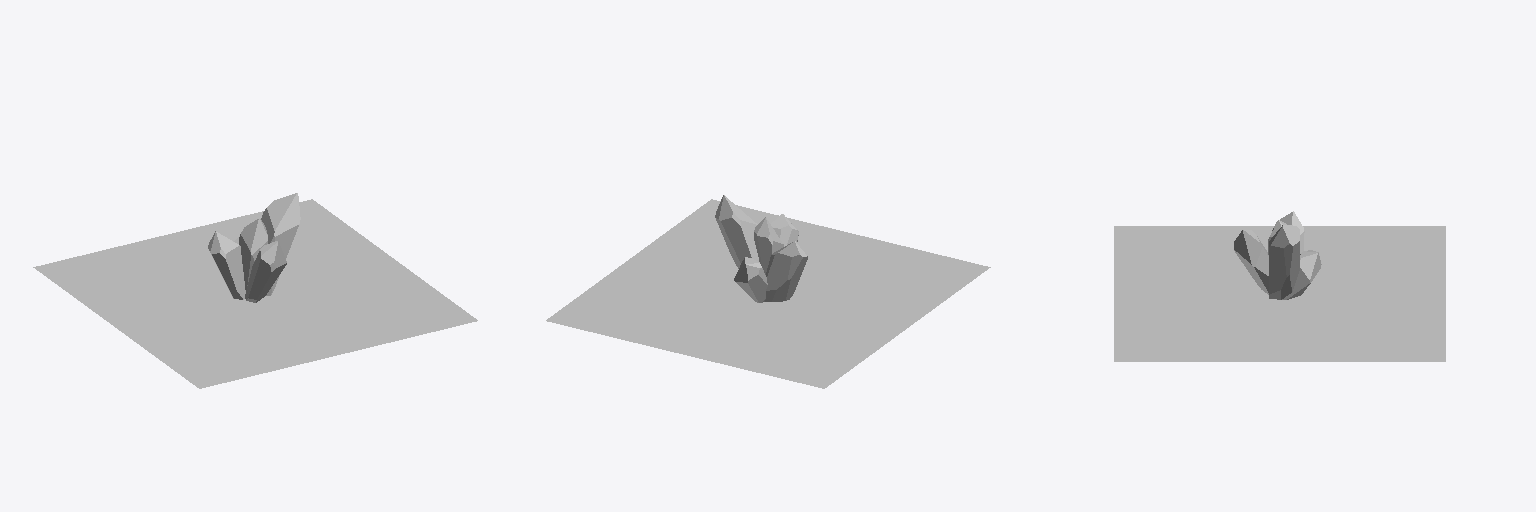
File: CrystalsFromAdrian.obj
3 views of the same model, side by side, from view 1: azimuth 30°, elevation 25°; view 2: azimuth 150°, elevation 25°; view 3: azimuth 270°, elevation 25° (orthographic).
Parts seen in each view (by area): view 1: Plane, Cube.002_Cube.014, Cube.003_Cube.015, Cube.004_Cube.017, Cube; view 2: Plane, Cube.004_Cube.017, Cube.002_Cube.014, Cube.001_Cube.013, Cube; view 3: Plane, Cube.002_Cube.014, Cube.003_Cube.015, Cube.001_Cube.013.
Boxes of the visible parts, x1=… form: Plane: x1=33, y1=199, x2=477, y2=388; Cube.002_Cube.014: x1=261, y1=193, x2=300, y2=295; Cube.003_Cube.015: x1=245, y1=241, x2=286, y2=302; Cube.004_Cube.017: x1=208, y1=231, x2=245, y2=299; Cube: x1=239, y1=218, x2=267, y2=289; Plane: x1=546, y1=199, x2=990, y2=388; Cube.004_Cube.017: x1=765, y1=241, x2=808, y2=301; Cube.002_Cube.014: x1=715, y1=195, x2=758, y2=268; Cube.001_Cube.013: x1=734, y1=257, x2=767, y2=302; Cube: x1=754, y1=217, x2=783, y2=274; Plane: x1=1114, y1=226, x2=1445, y2=361; Cube.002_Cube.014: x1=1269, y1=225, x2=1299, y2=299; Cube.003_Cube.015: x1=1234, y1=230, x2=1268, y2=294; Cube.001_Cube.013: x1=1282, y1=250, x2=1321, y2=299.
Size of the model in its own units: 26.68 by 9.44 by 27.52.